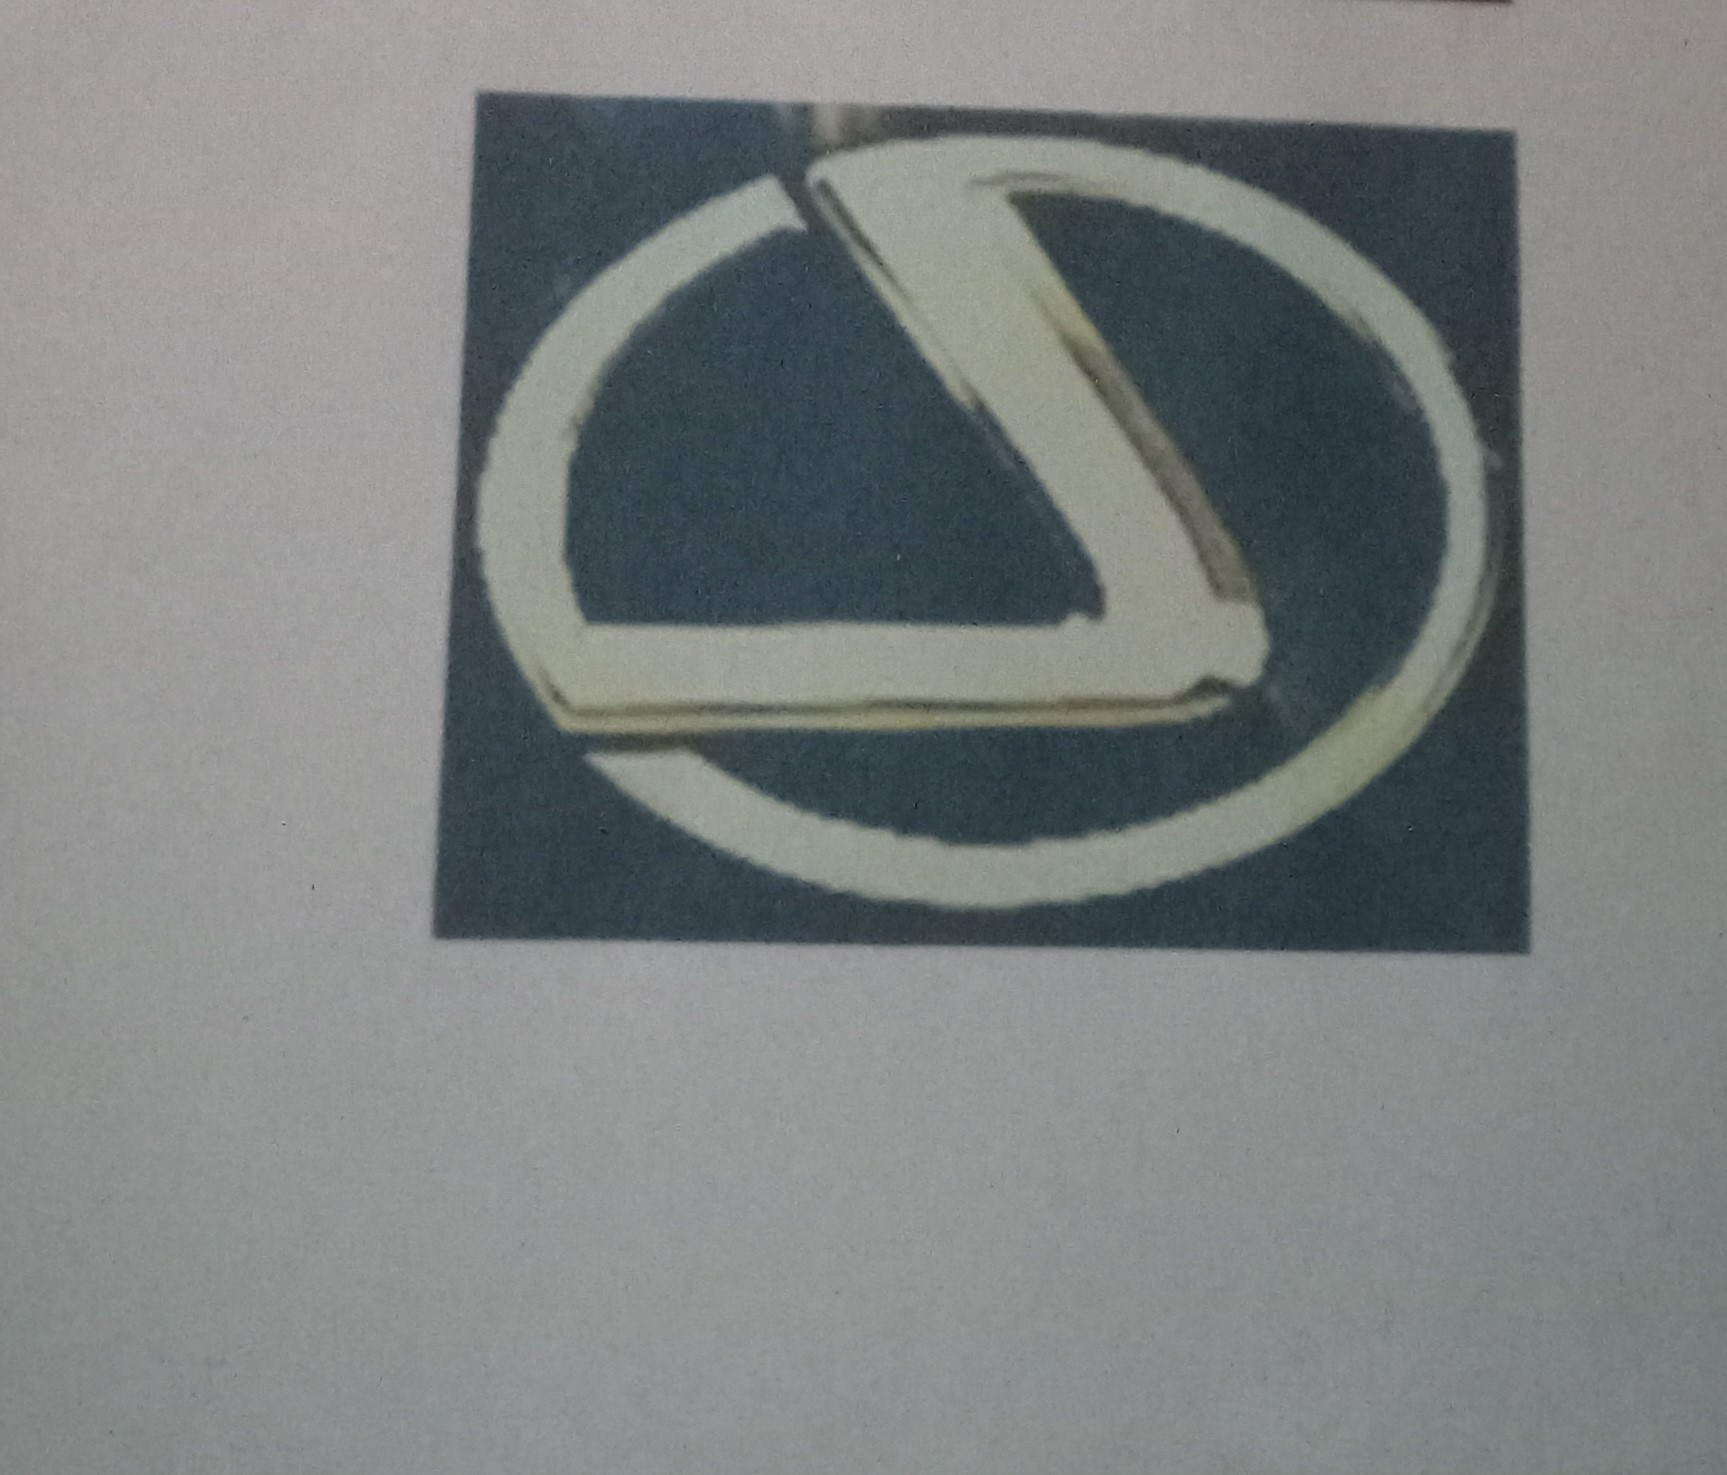Lexus: (457, 120, 1507, 935)
